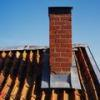chimneys: (49, 6, 73, 82)
